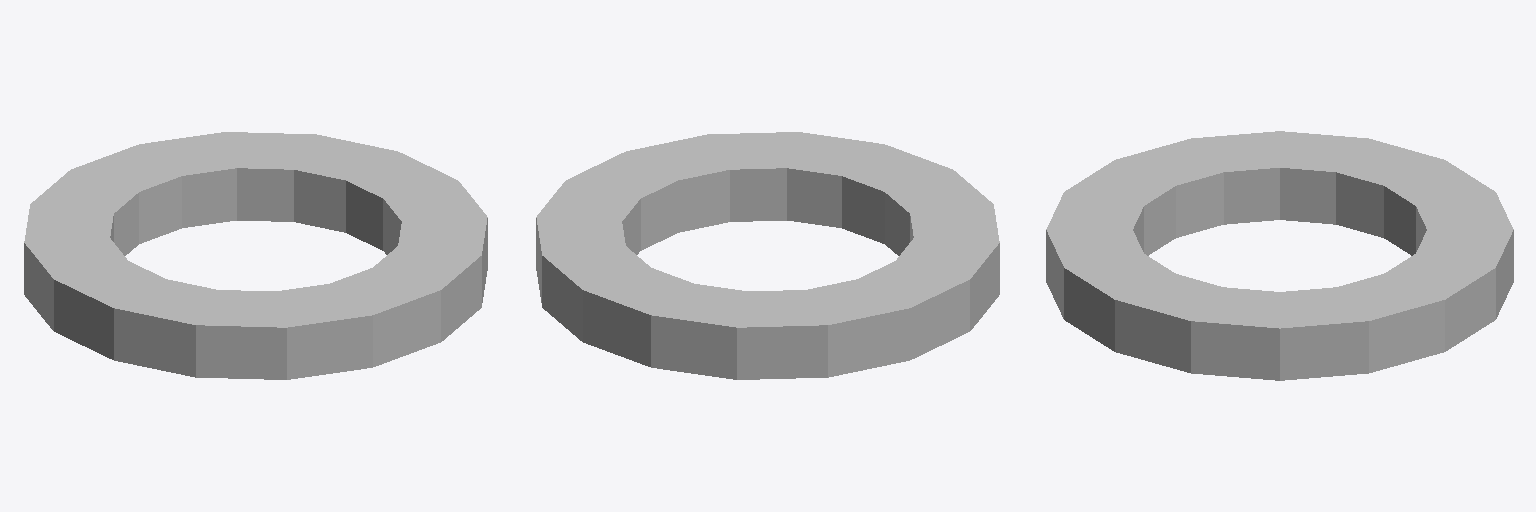
File: flat_torus.obj
The picture shows the model from 3 angles: view 1: azimuth 30°, elevation 25°; view 2: azimuth 150°, elevation 25°; view 3: azimuth 270°, elevation 25°; orthographic projection.
Parts seen in each view (by area): view 1: flat_torus.001_Cube.006; view 2: flat_torus.001_Cube.006; view 3: flat_torus.001_Cube.006.
Part boxes in pixels (bbox=[...]): flat_torus.001_Cube.006: bbox=[24, 132, 487, 379]; flat_torus.001_Cube.006: bbox=[536, 132, 999, 379]; flat_torus.001_Cube.006: bbox=[1046, 131, 1513, 380].
Size of the model in its own units: 8.09 by 1 by 8.09.